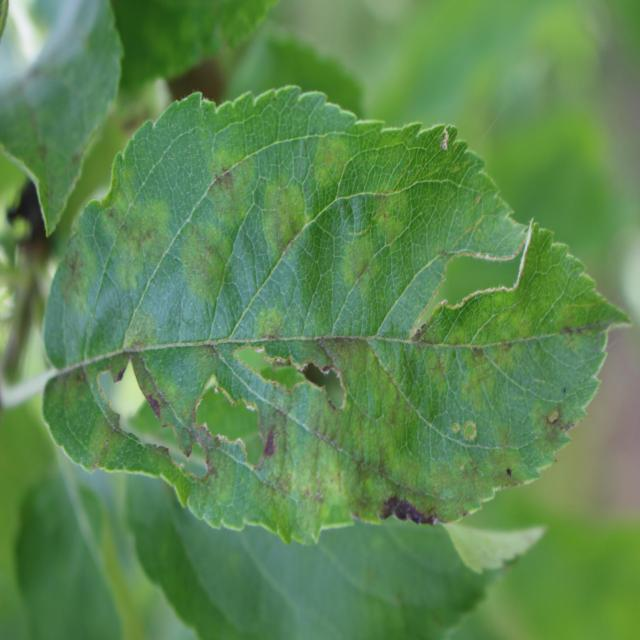scab: (50, 350, 585, 524), (98, 182, 167, 302), (258, 170, 319, 284), (359, 168, 419, 264), (180, 236, 242, 320), (205, 136, 259, 229), (312, 134, 360, 209), (53, 228, 93, 312), (338, 236, 386, 305)
